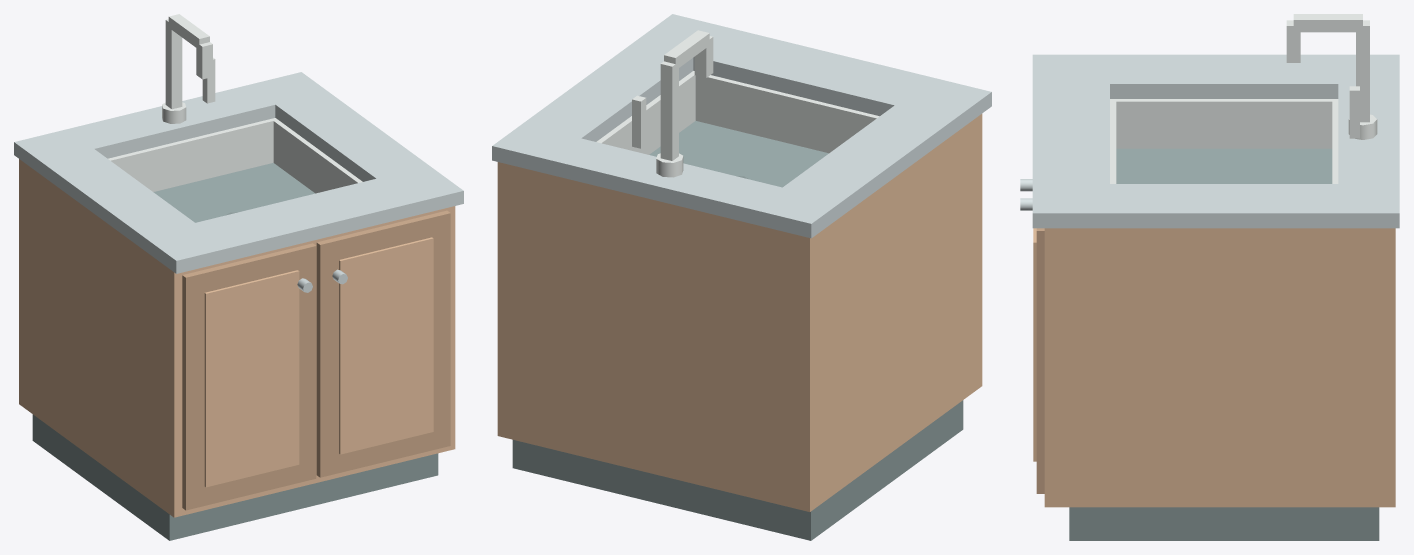
Rendered from sinkSingleBowl.glb.
3 views of the same model, side by side, from view 1: azimuth 30°, elevation 25°; view 2: azimuth 150°, elevation 25°; view 3: azimuth 270°, elevation 25° (orthographic). The views are drawn at different scales.
Visible parts, largest first — view 1: sinkSingleBowl; view 2: sinkSingleBowl; view 3: sinkSingleBowl.
Part boxes in pixels (x1,y1,x2,y2): sinkSingleBowl: (14, 14, 463, 540); sinkSingleBowl: (492, 14, 991, 540); sinkSingleBowl: (1020, 14, 1399, 540).
Size of the model in its own units: 0.46 by 0.6085 by 0.465.
